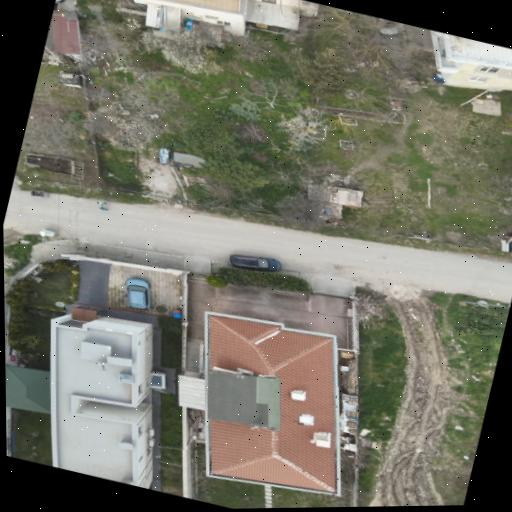car: (229, 254, 281, 270), (126, 277, 151, 308), (56, 0, 63, 2)
person: (97, 201, 106, 204), (101, 206, 108, 209)
